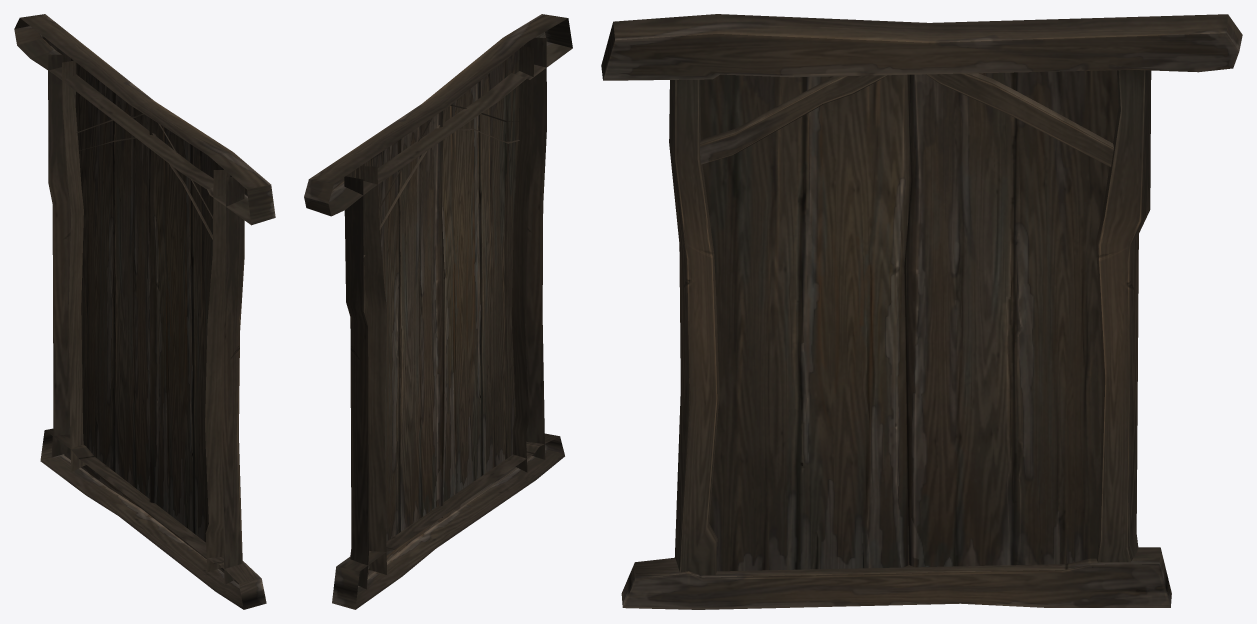
Rendered from lower_city_door_05.fbx.
The picture shows the model from 3 angles, left to right: view 1: azimuth 30°, elevation 25°; view 2: azimuth 150°, elevation 25°; view 3: azimuth 270°, elevation 25°; orthographic projection. The views are drawn at different scales.
Parts seen in each view (by area): view 1: lower_city_door_05; view 2: lower_city_door_05; view 3: lower_city_door_05.
Boxes of the visible parts, x1,y1,x2,y2 form: lower_city_door_05: [14, 14, 275, 609]; lower_city_door_05: [304, 14, 572, 609]; lower_city_door_05: [601, 14, 1242, 609].
Size of the model in its own units: 0.134 by 2.21 by 2.2.
